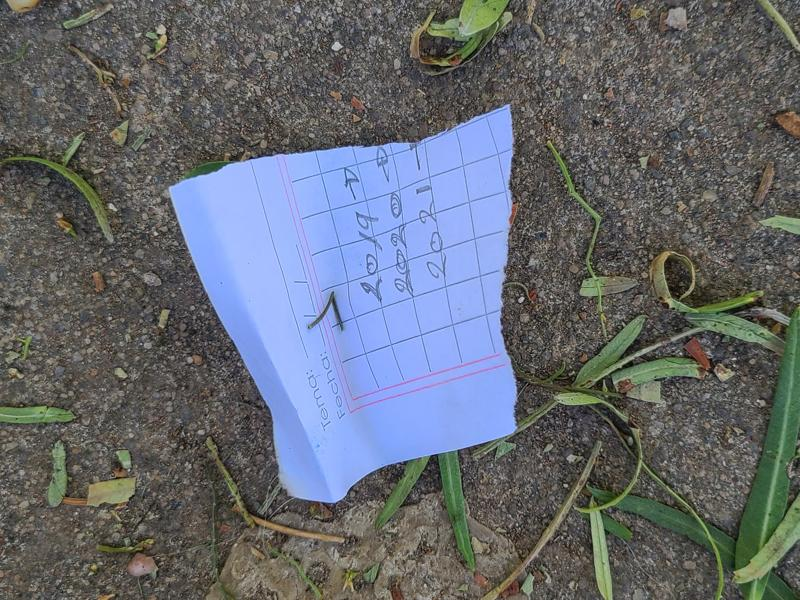papel: (168, 106, 519, 505)
